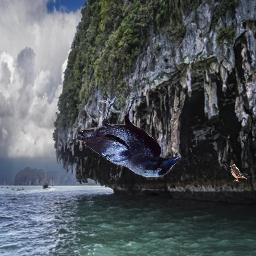Crow: (78, 95, 181, 178)
Sparrow: (229, 164, 247, 183)
